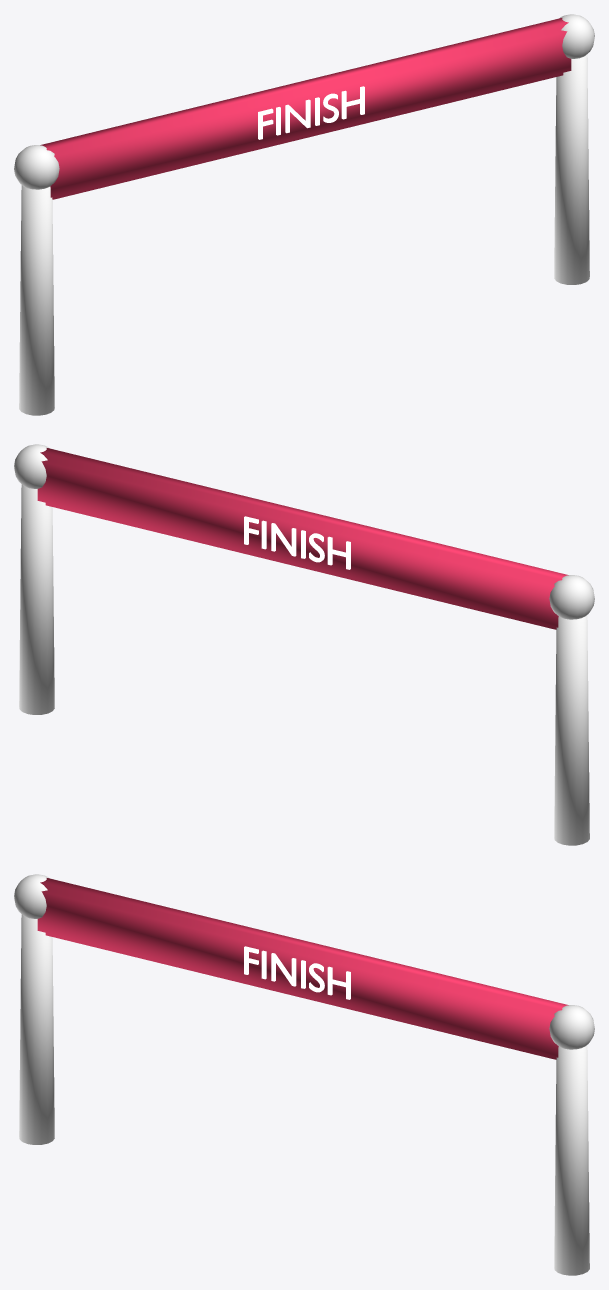
File: prop_finish_arch.glb
The picture shows the model from 3 angles, top to bottom: view 1: azimuth 30°, elevation 25°; view 2: azimuth 150°, elevation 25°; view 3: azimuth 330°, elevation 25°; orthographic projection.
Visible parts, largest first — view 1: Finish_Banner, Finish_Posts, Finish_Text0; view 2: Finish_Banner, Finish_Posts, Finish_Text3; view 3: Finish_Banner, Finish_Posts, Finish_Text0.
Part boxes in pixels (x1,y1,x2,y2): Finish_Banner: [40, 18, 571, 199]; Finish_Posts: [14, 14, 594, 415]; Finish_Text0: [258, 86, 364, 139]; Finish_Banner: [37, 448, 568, 629]; Finish_Posts: [14, 444, 594, 845]; Finish_Text3: [244, 516, 350, 569]; Finish_Banner: [37, 878, 568, 1059]; Finish_Posts: [14, 874, 594, 1275]; Finish_Text0: [244, 946, 350, 999].
Bounding box in the file's own units: 12.9 × 5.6 × 0.9.
